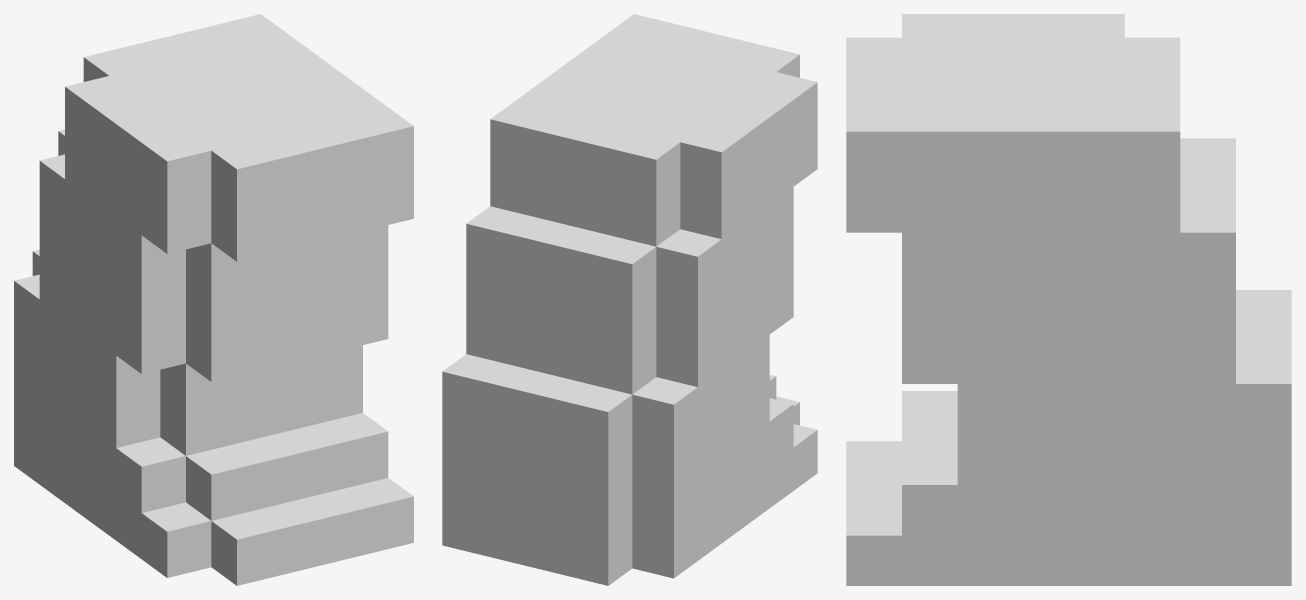
File: leg2.obj
The picture shows the model from 3 angles, left to right: view 1: azimuth 30°, elevation 25°; view 2: azimuth 150°, elevation 25°; view 3: azimuth 270°, elevation 25°; orthographic projection. The views are drawn at different scales.
Bounding box in the file's own units: 5 × 9 × 8.
Materials: 1 (1 with a texture image).
